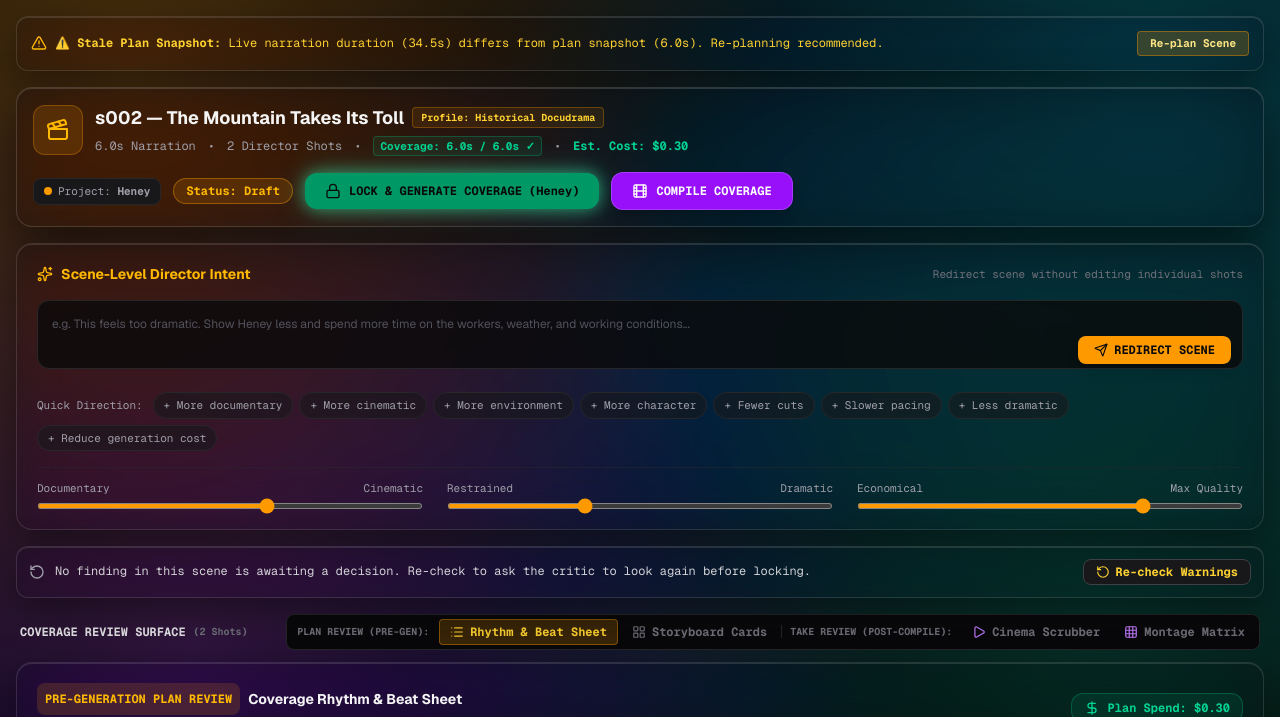
Scenario: the re-plan outcome survives the banner that started it › a job still running at the timeout is unfinished, not failed work
This screenshot has width=1280, height=717.
Click the button with test id "replan-stale": [1193, 43] box [1137, 31, 1249, 56]
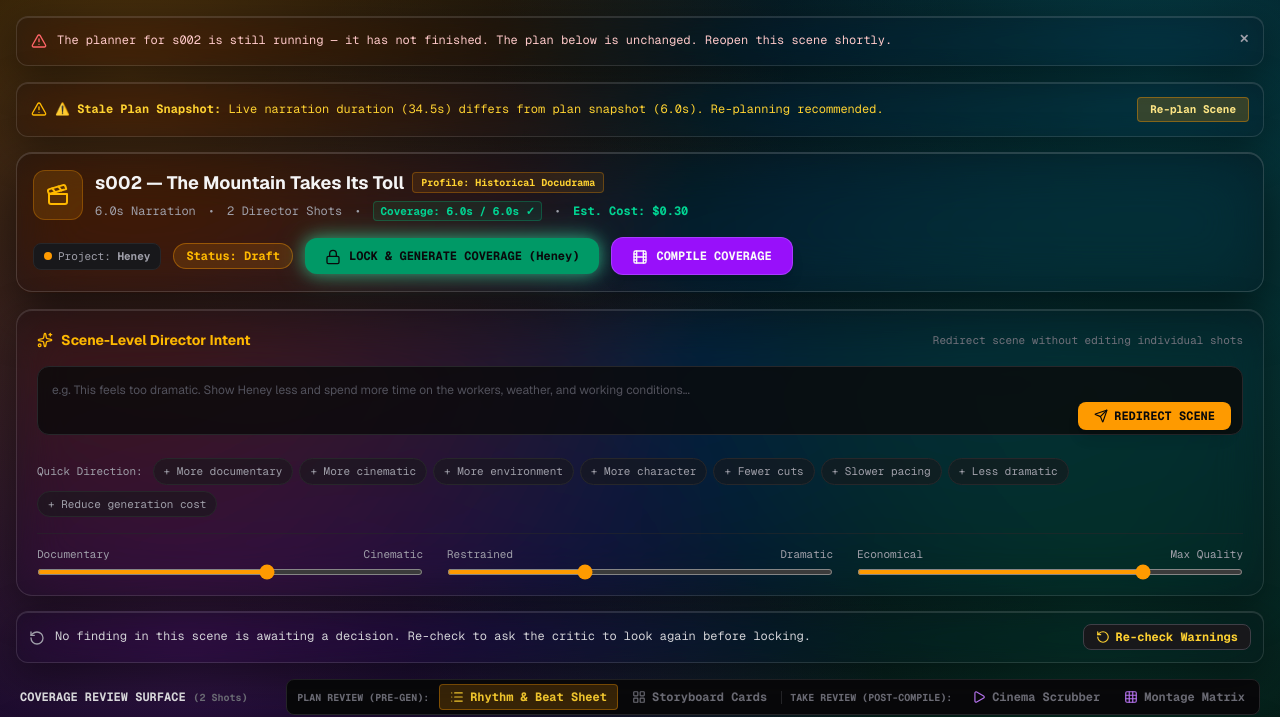
expect the element with test id "redirect-outcome" shows "still running": met, box [57, 32, 892, 48]
expect the element with test id "redirect-outcome" shows "The plan below is unchanged.": met, box [57, 32, 892, 48]
